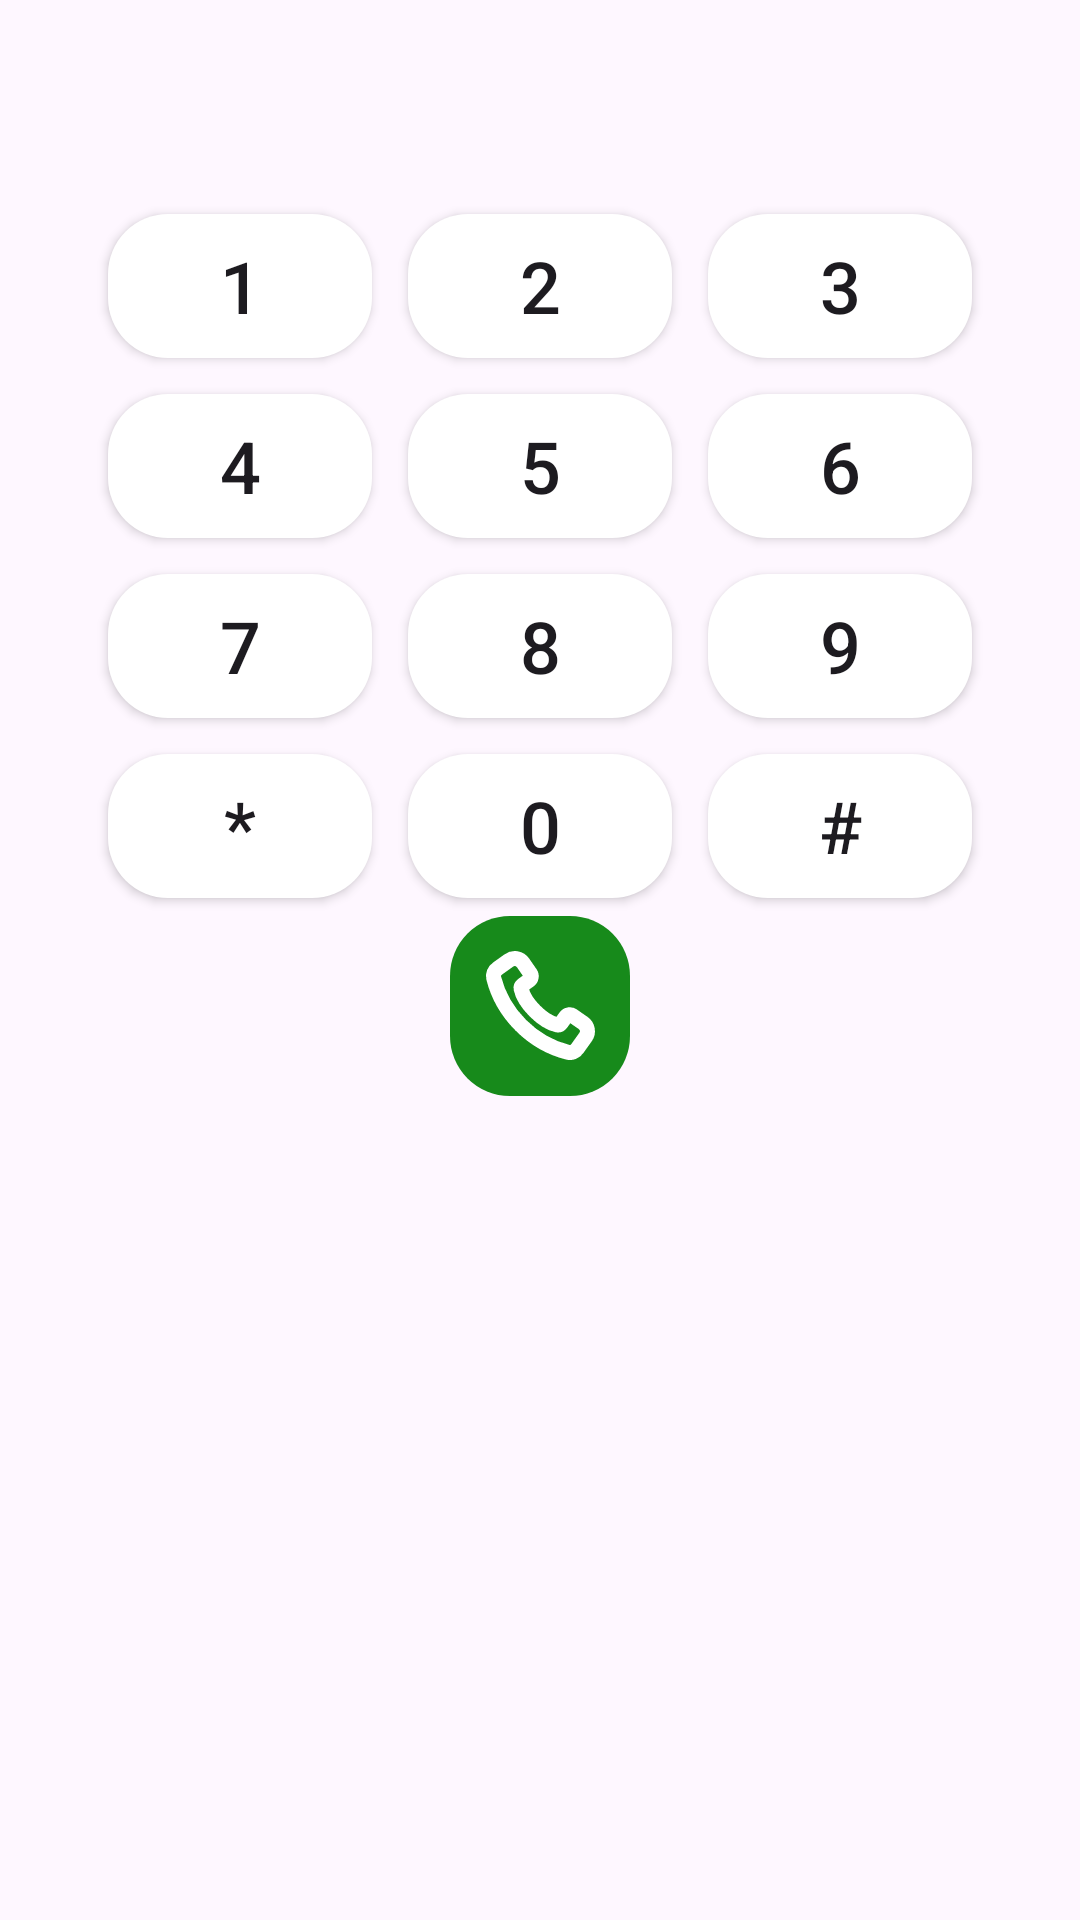

Named icons in this screenshot (1080x1920) and their bounding boxes, (x1, y1, x2, y2):
Call: (450, 916, 630, 1096)
